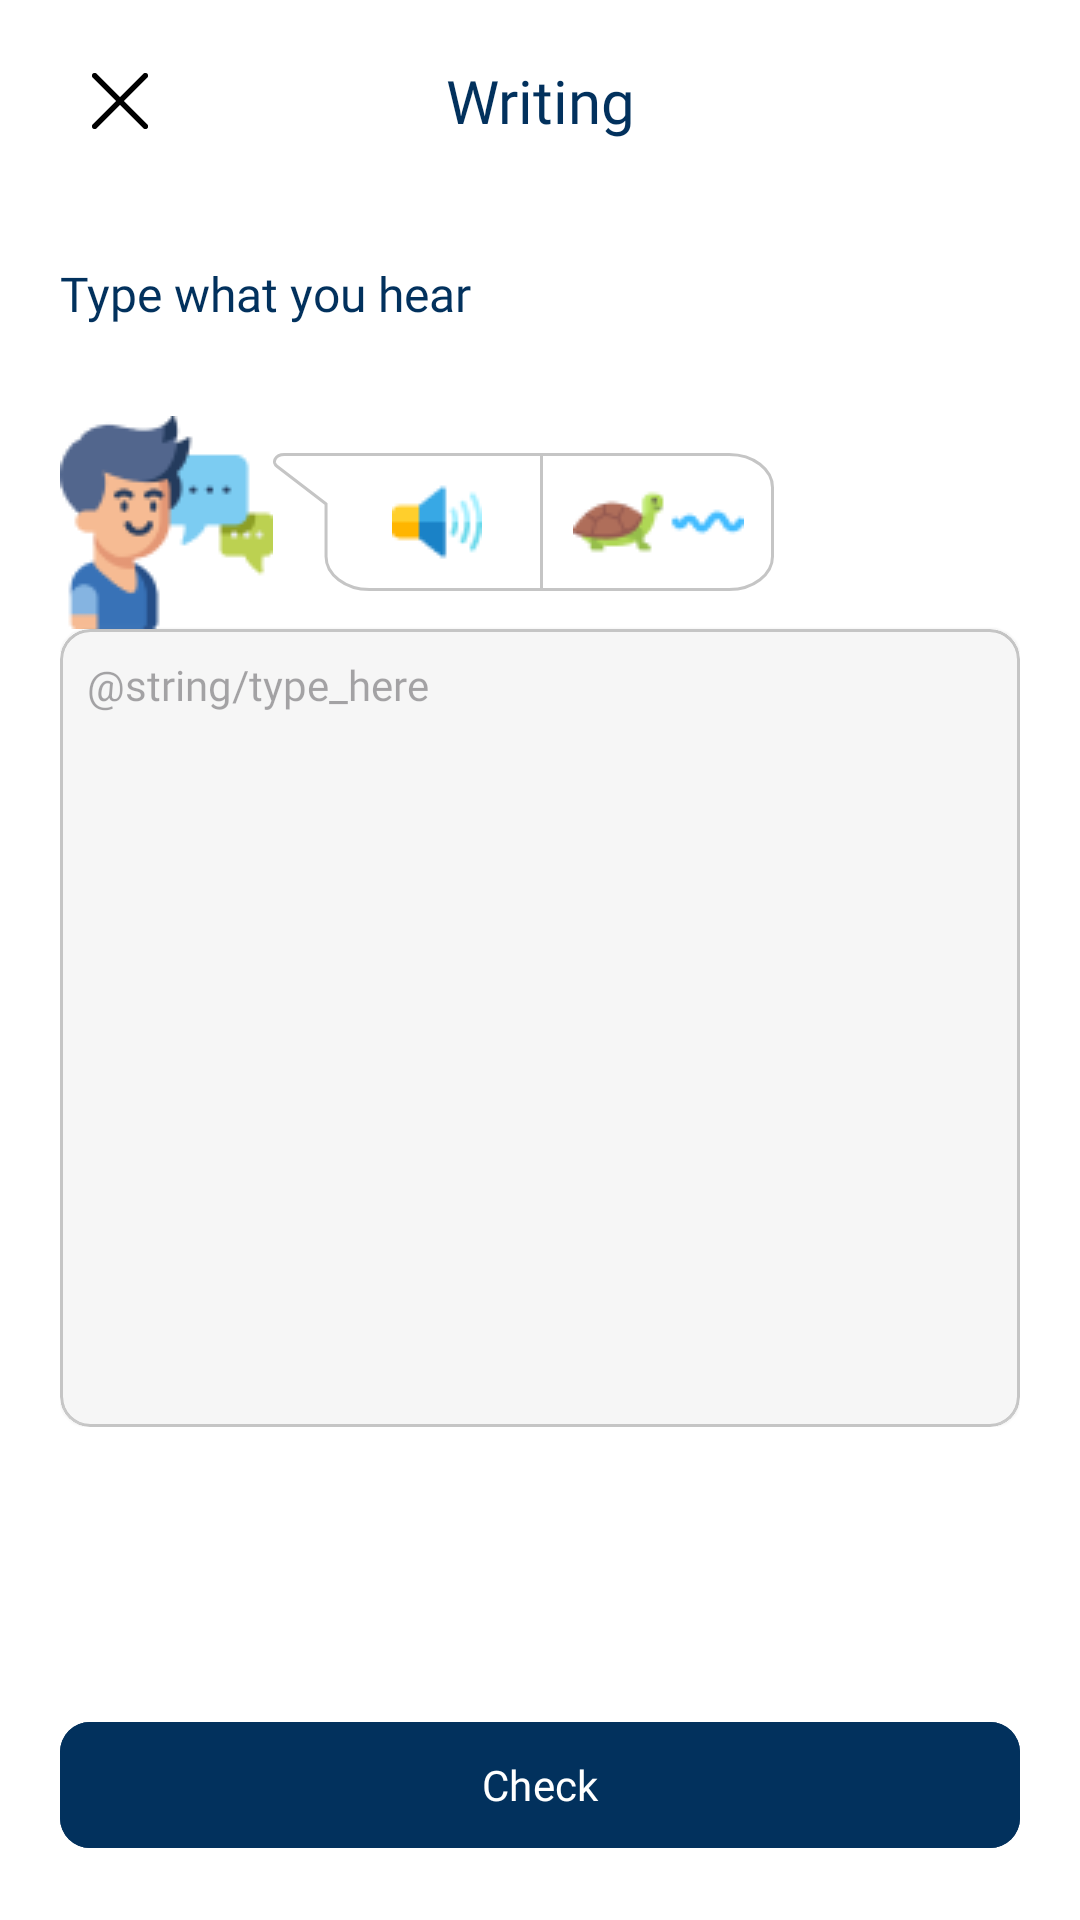

Named icons in this screenshot (1080x1920) and their centers, (x=x, y=y):
cross: (x=120, y=101)
speaker: (x=437, y=522)
turtle: (x=658, y=522)
